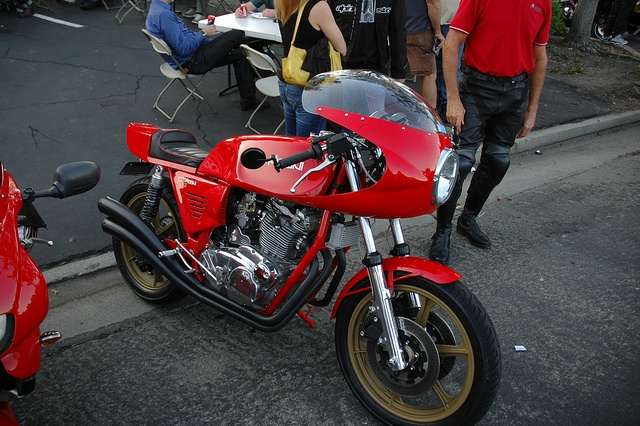non-vehicle: (99, 70, 505, 421), (0, 161, 104, 419)
